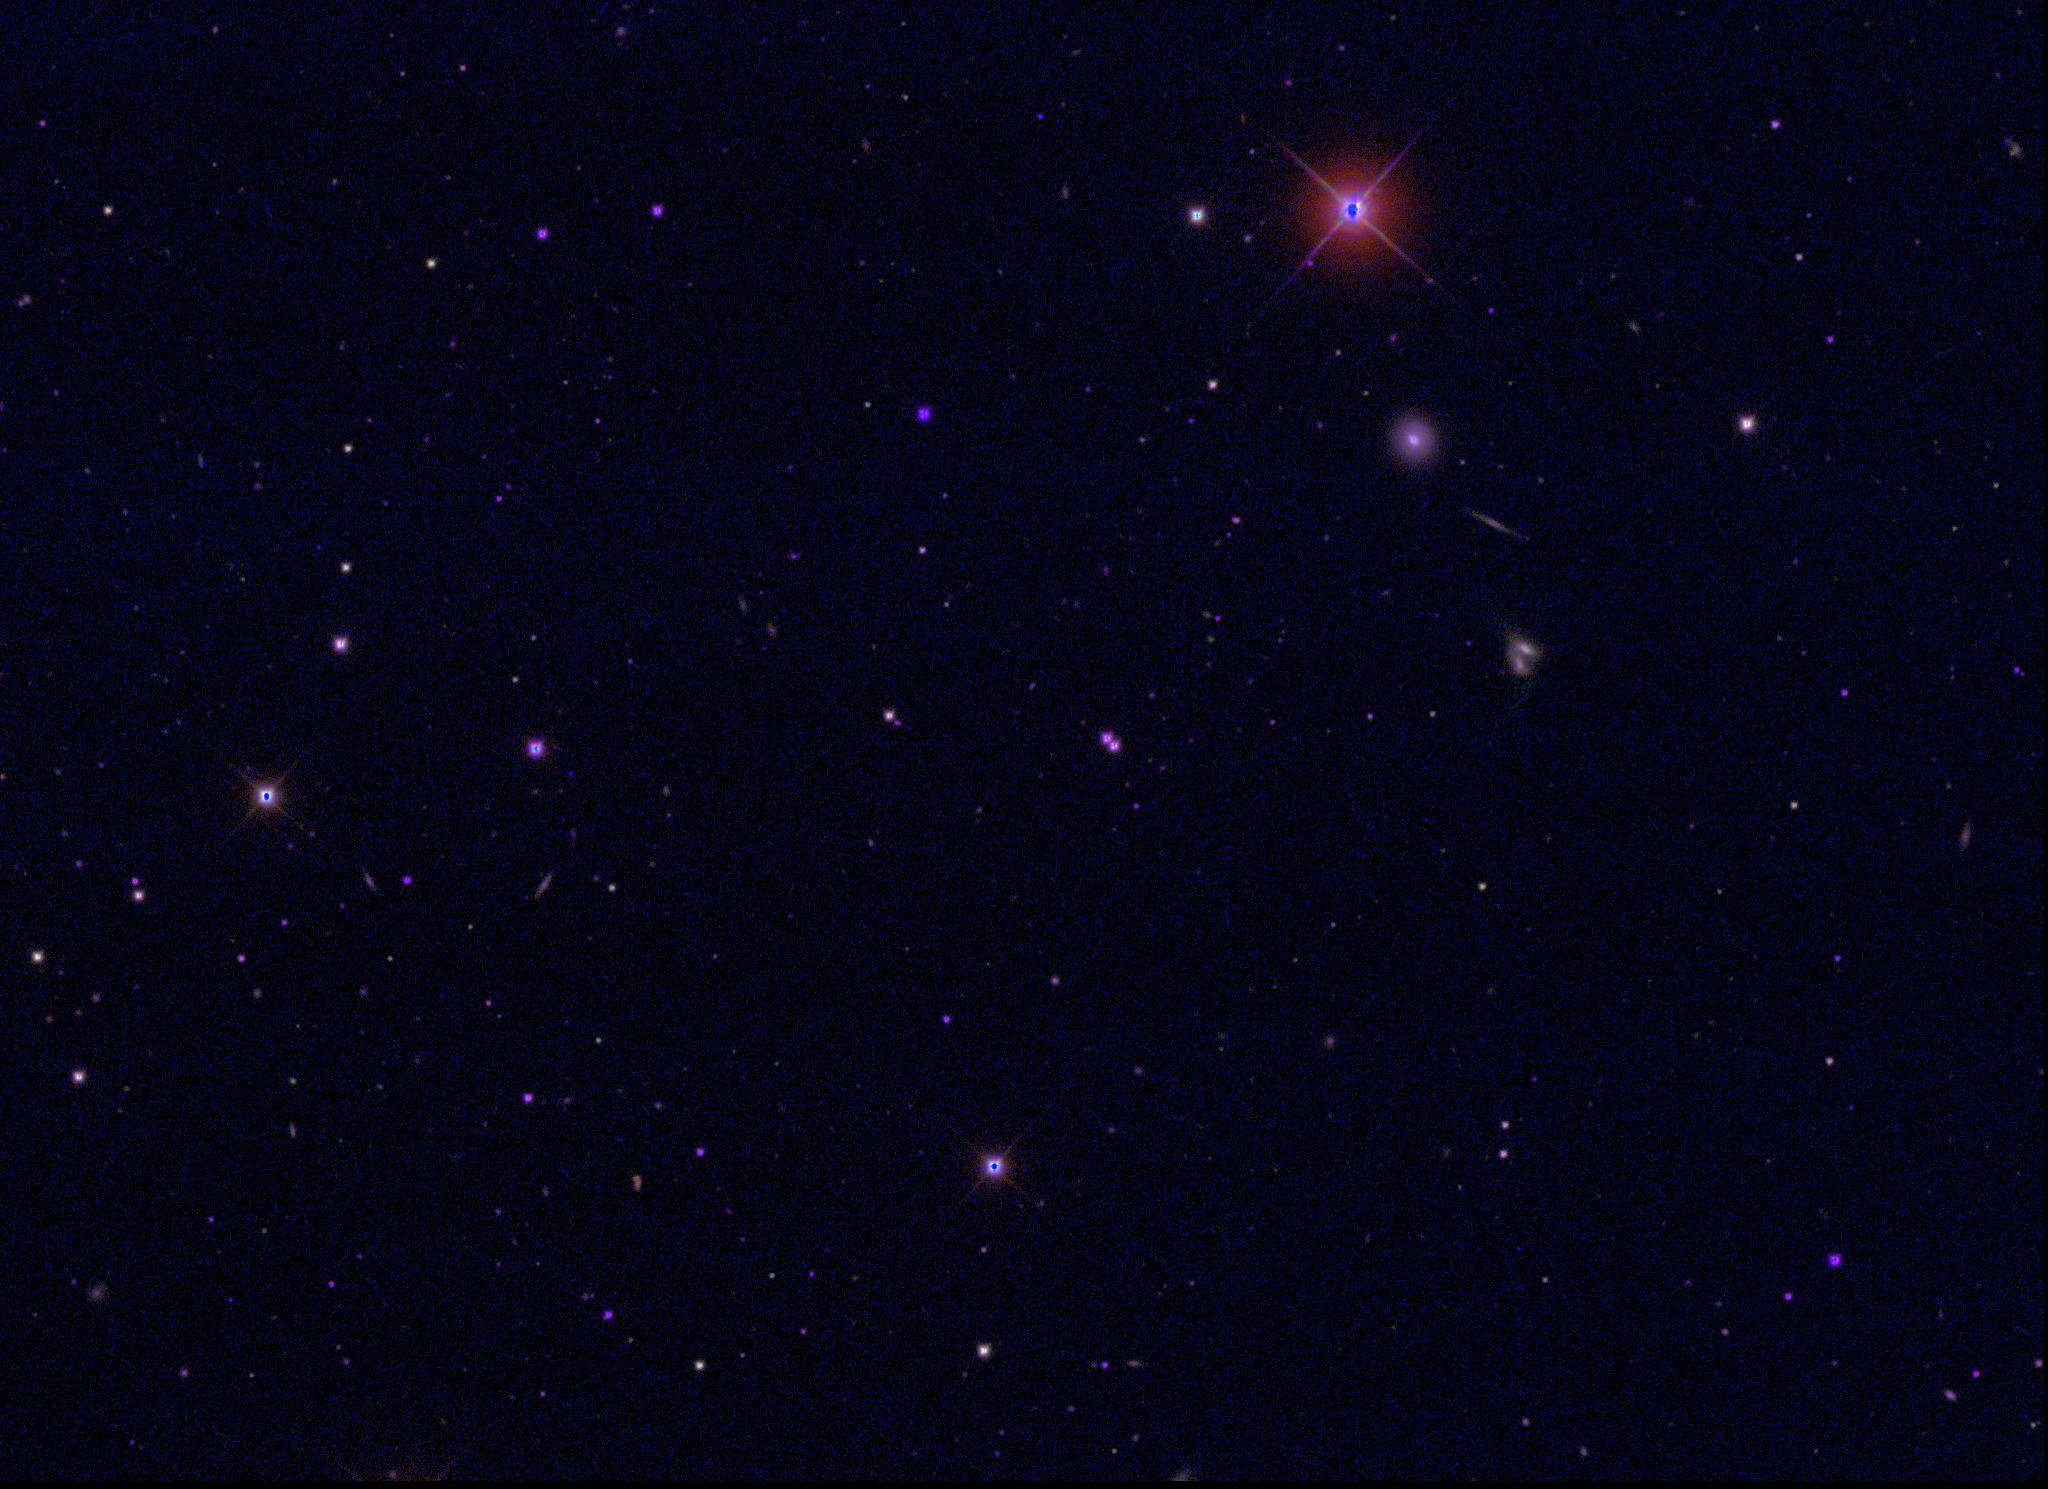L: (324, 1276, 339, 1290)
